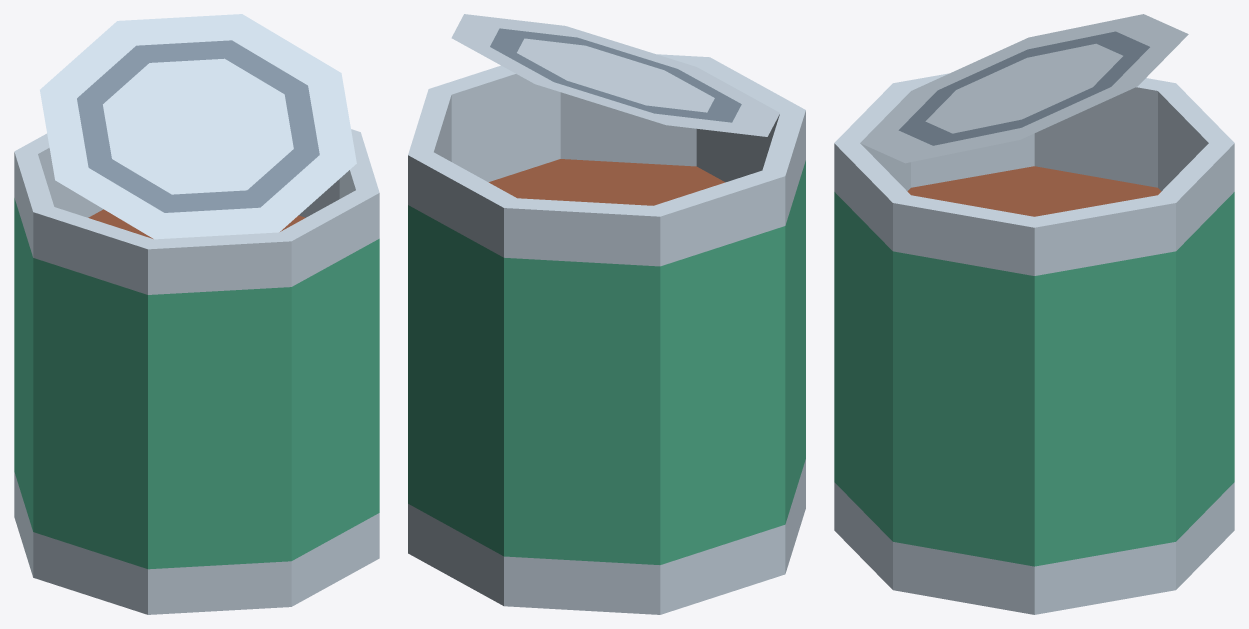
Rendered from canOpen.fbx.
3 views of the same model, side by side, from view 1: azimuth 30°, elevation 25°; view 2: azimuth 150°, elevation 25°; view 3: azimuth 270°, elevation 25° (orthographic). The views are drawn at different scales.
Parts seen in each view (by area): view 1: canOpen; view 2: canOpen; view 3: canOpen.
Boxes of the visible parts, x1,y1,x2,y2 form: canOpen: (14, 14, 379, 614); canOpen: (408, 14, 805, 614); canOpen: (834, 14, 1234, 614).
Bounding box in the file's own units: 3 × 4.07 × 3.
